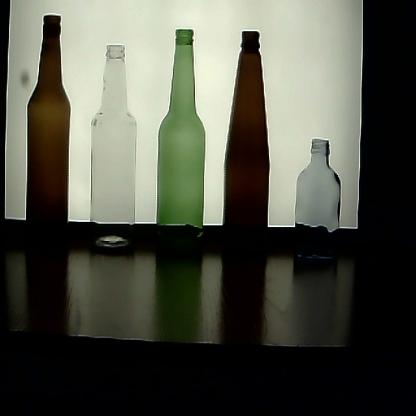Can: (18, 14, 75, 253), (220, 30, 272, 272), (155, 27, 206, 263), (88, 42, 140, 264), (291, 138, 343, 267)
